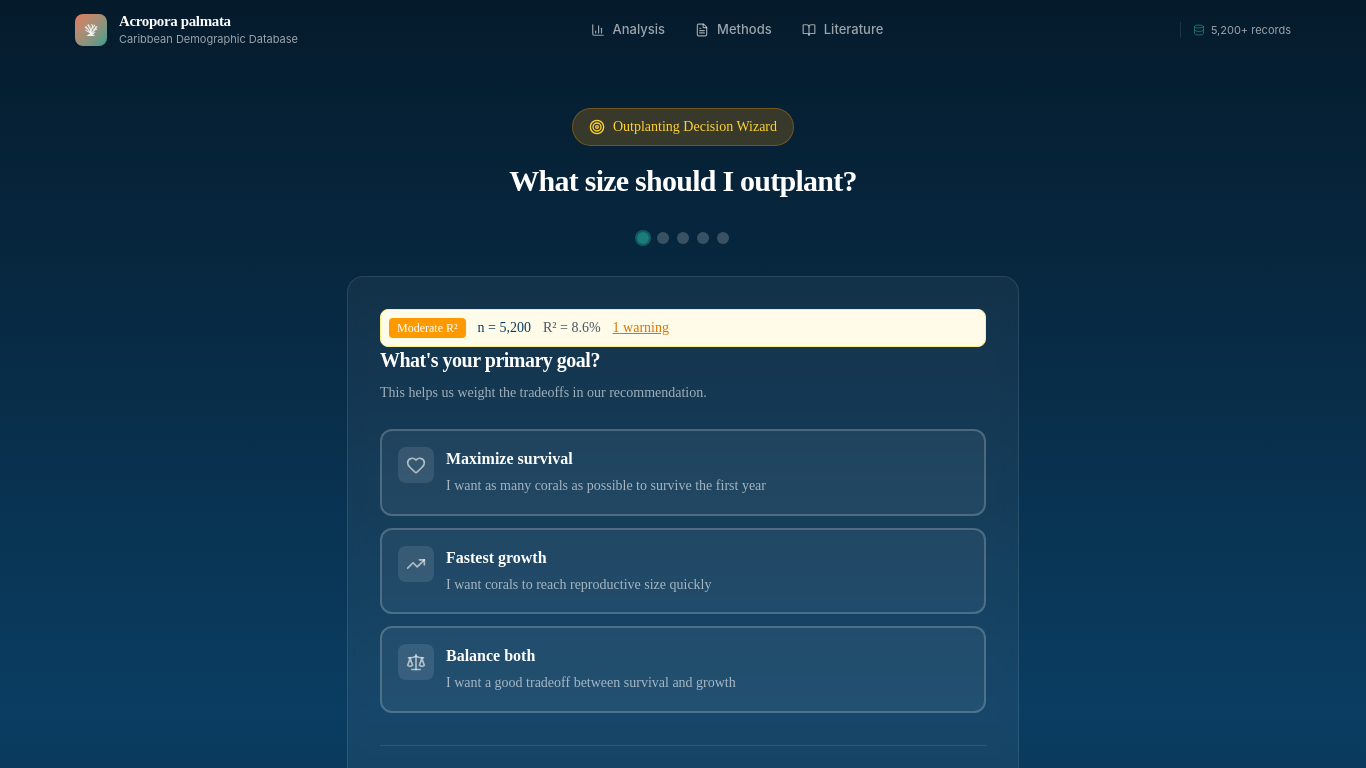
OutplantingWizard › navigation › allows going back to previous step
Expected: the heading "Maximize survival" is shown, [446, 450, 573, 467]
# Go to step 1
Click the button "Maximize survival": (416, 465) [380, 429, 986, 516]
(page scrolled)
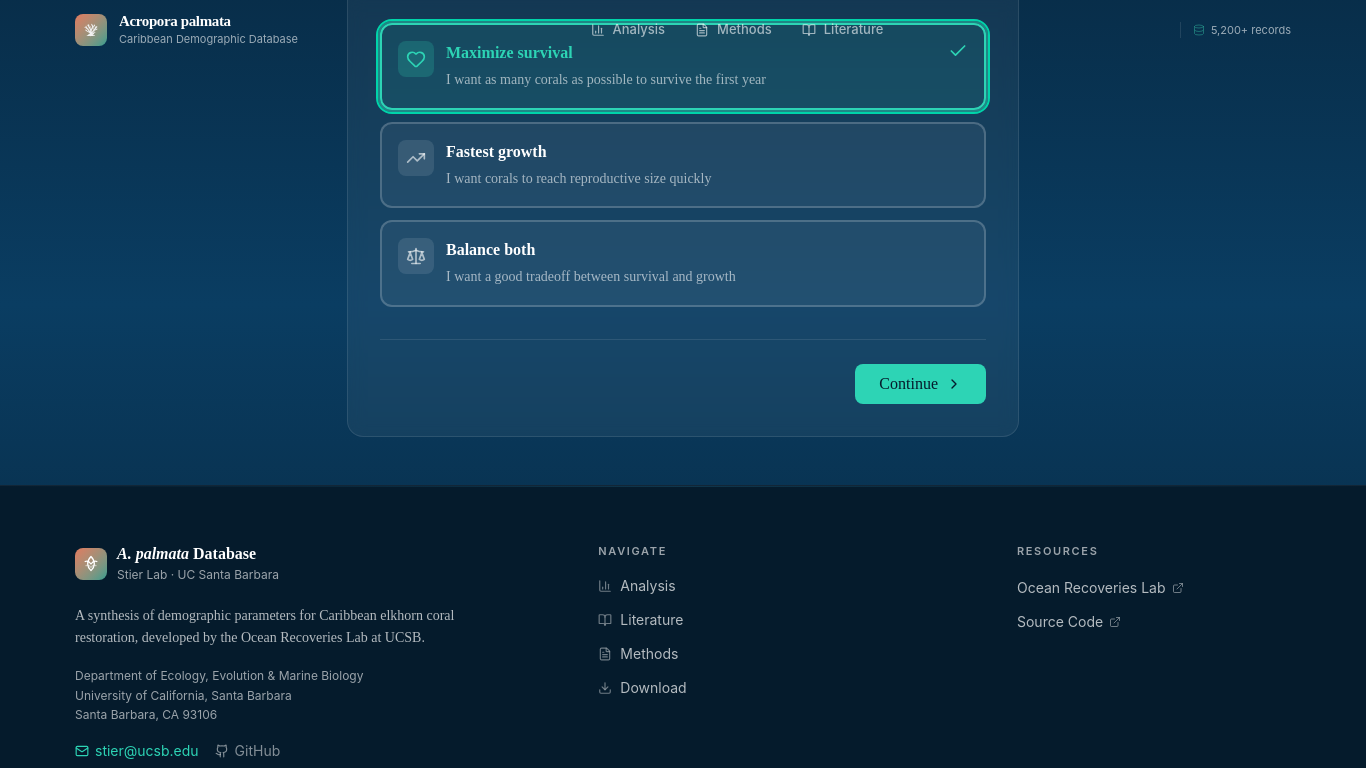
Click the button "Continue": (921, 384) [855, 364, 986, 404]
(page scrolled)
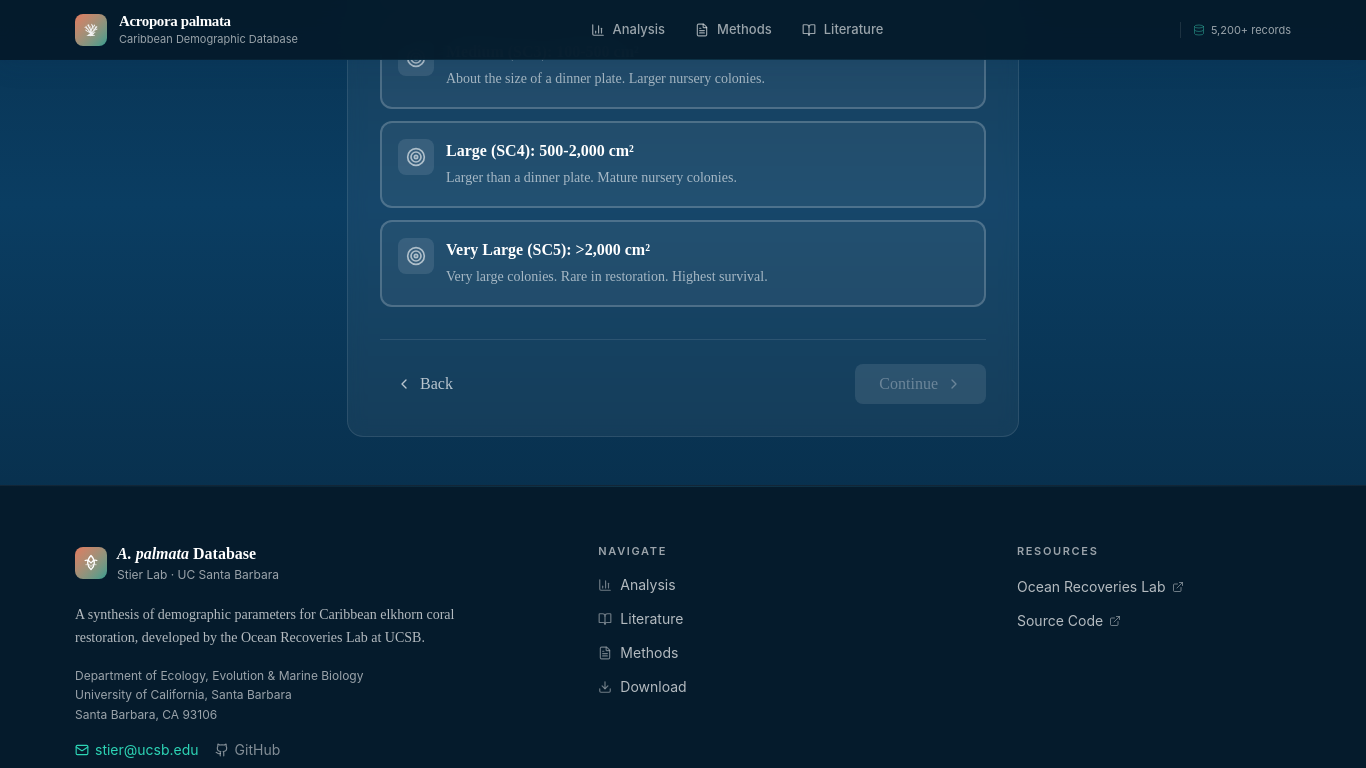
#  Go back
Click the button "Back": (424, 384) [380, 364, 469, 404]
(page scrolled)
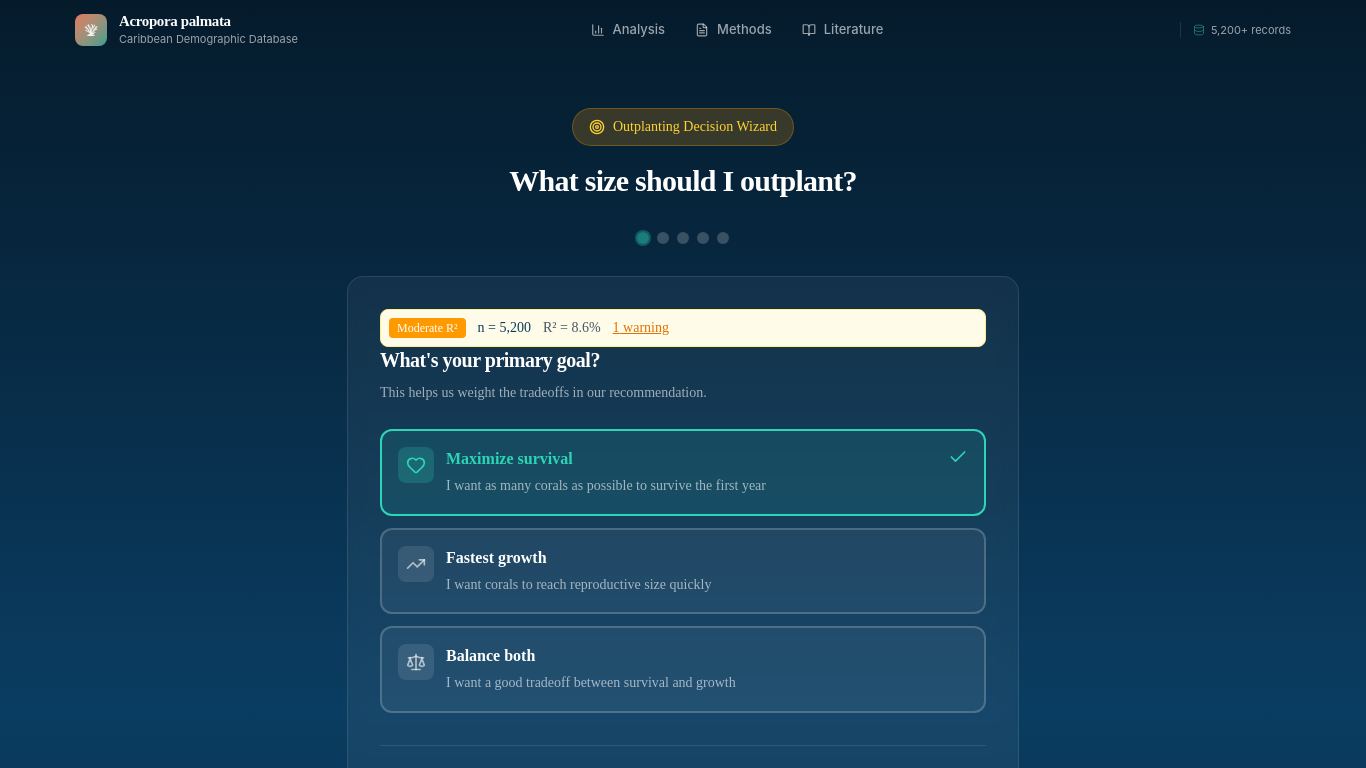
Expected: the heading "What's your primary goal?" is shown, [380, 348, 600, 370]
